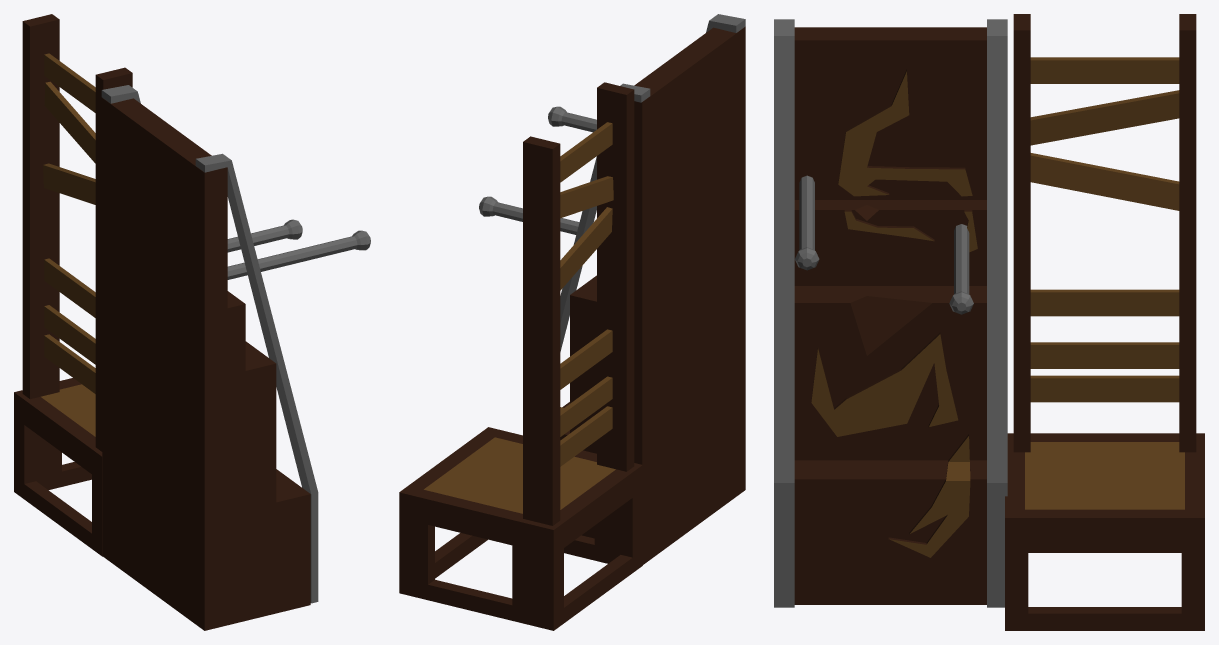
The model's file is Buildstand_Swingbar_and_Climbing.fbx.
3 renders of one model, left to right at view 1: azimuth 30°, elevation 25°; view 2: azimuth 150°, elevation 25°; view 3: azimuth 270°, elevation 25°, orthographic. The views are drawn at different scales.
Parts seen in each view (by area): view 1: Swingbar_Holder, Climbing_Holder, Floor_Holder, Floor, Swingbar, Climbing, Climbing.002, Climbing.001, Swingbar.001; view 2: Swingbar_Holder, Climbing_Holder, Floor_Holder, Floor, Climbing, Climbing.002, Climbing.001, Swingbar.001, Swingbar; view 3: Swingbar_Holder, Climbing_Holder, Floor, Floor_Holder, Climbing, Climbing.001, Climbing.002, Swingbar, Swingbar.001.
Boxes of the visible parts, box(x1,y1,x2,y2) form: Swingbar_Holder: box(101, 85, 318, 630); Climbing_Holder: box(22, 14, 132, 451); Floor_Holder: box(14, 402, 102, 556); Floor: box(14, 378, 102, 466); Swingbar: box(227, 236, 357, 279); Climbing: box(44, 334, 95, 393); Climbing.002: box(44, 305, 95, 364); Climbing.001: box(44, 258, 95, 317); Swingbar.001: box(227, 225, 289, 252); Swingbar_Holder: box(560, 14, 745, 564); Climbing_Holder: box(523, 82, 634, 525); Floor_Holder: box(399, 475, 642, 630); Floor: box(399, 427, 642, 539); Climbing: box(560, 406, 612, 466); Climbing.002: box(560, 376, 612, 436); Climbing.001: box(560, 329, 612, 389); Swingbar.001: box(492, 202, 579, 234); Swingbar: box(561, 112, 596, 132); Swingbar_Holder: box(774, 19, 1007, 607); Climbing_Holder: box(1013, 14, 1196, 452); Floor: box(1005, 433, 1204, 528); Floor_Holder: box(1005, 529, 1204, 630); Climbing: box(1030, 375, 1179, 402); Climbing.001: box(1030, 289, 1179, 316); Climbing.002: box(1030, 342, 1179, 368); Swingbar: box(799, 175, 814, 249); Swingbar.001: box(954, 224, 969, 293).
Bounding box in the file's own units: 6.34 × 15.97 × 11.66.
